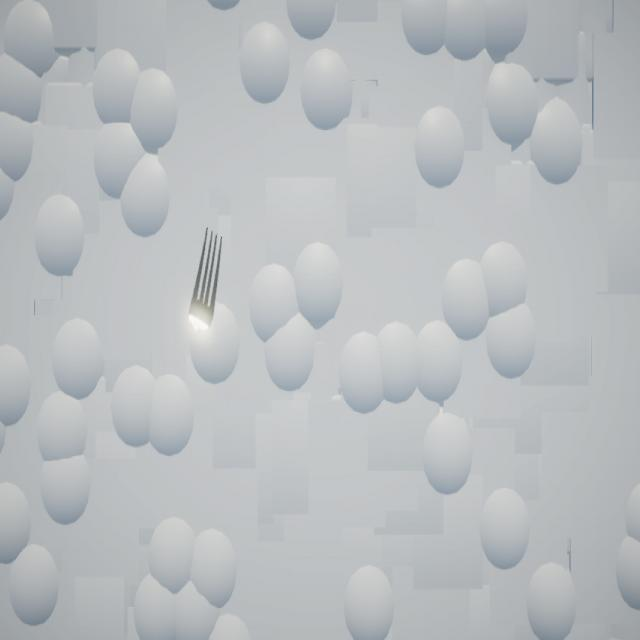top_folk: (189, 229, 223, 333)
